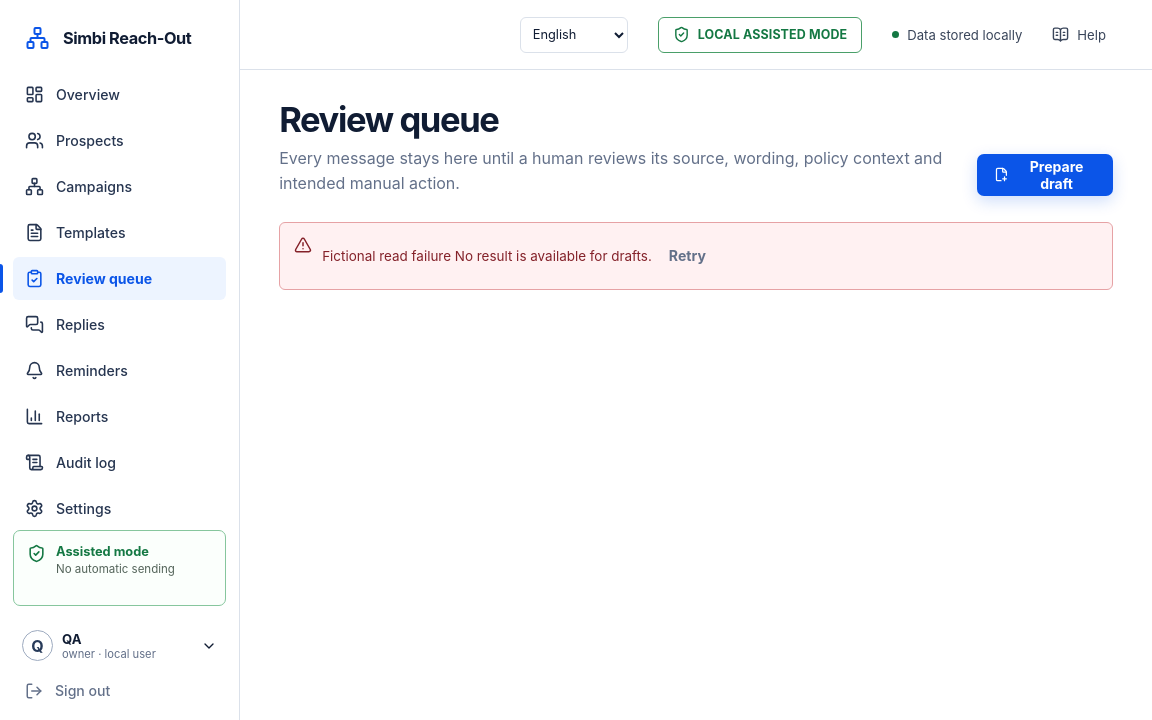
Test: truthful loading states on every operational route › /review distinguishes failure from emptiness and can retry
Check: the text "Fictional read failure" is shown, box [322,248,451,264]
Check: the text "No drafts to review" is not shown
Click the button "Retry" at x=687, y=256, box [652,235,723,277]
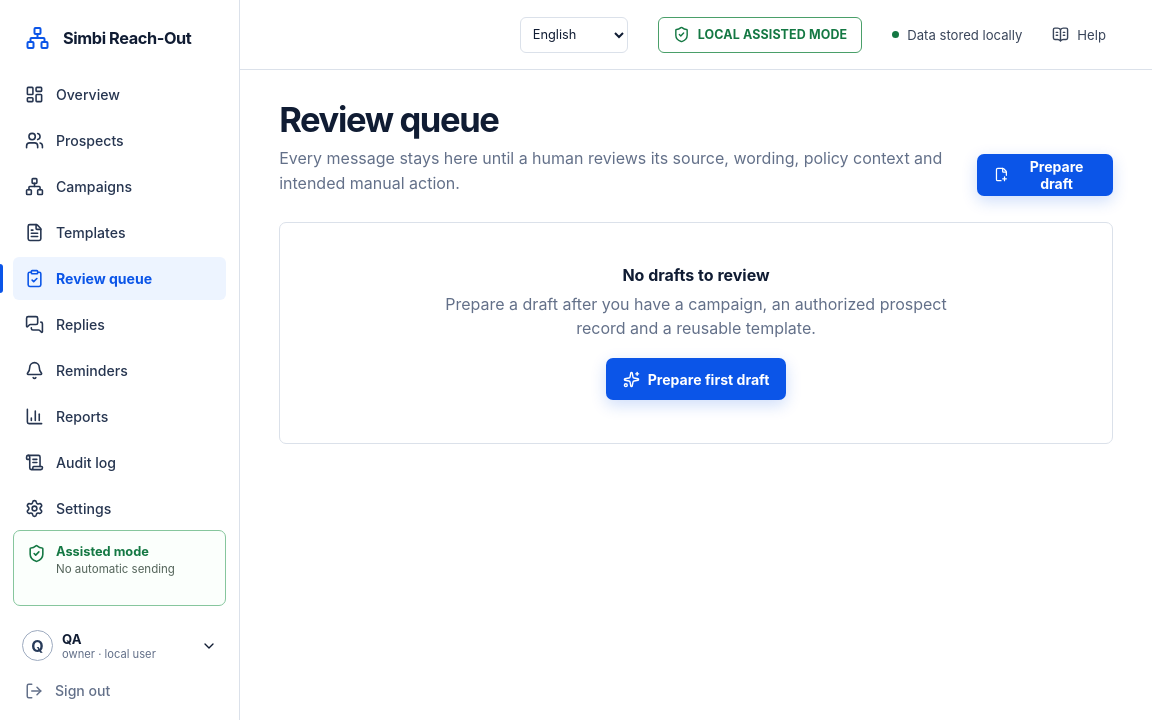
Check: the heading "No drafts to review" is shown, box [622,265,770,285]
Check: the text "Fictional read failure" is gone
